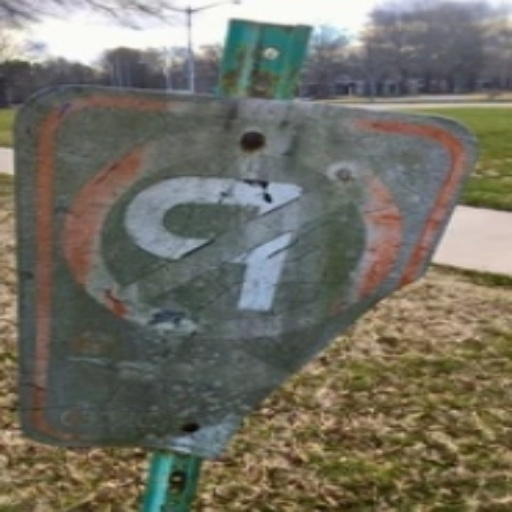No parking: (55, 116, 396, 368)
